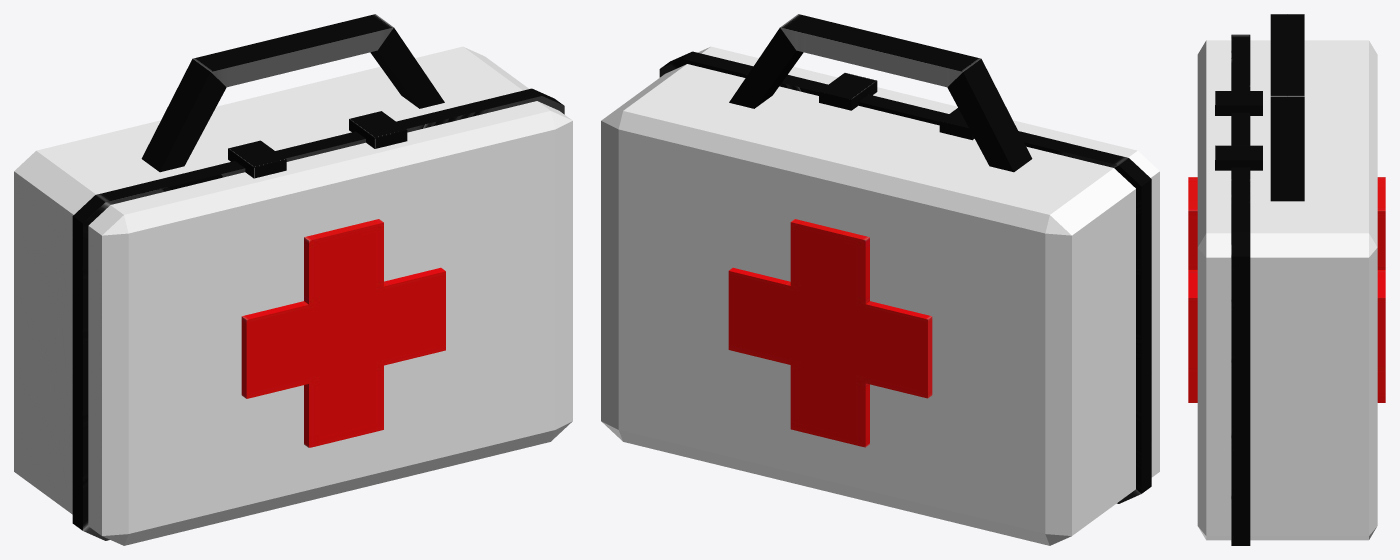
File: First Aid Kit1.fbx
The picture shows the model from 3 angles, left to right: view 1: azimuth 30°, elevation 25°; view 2: azimuth 150°, elevation 25°; view 3: azimuth 270°, elevation 25°; orthographic projection. The views are drawn at different scales.
Parts seen in each view (by area): view 1: Cube; view 2: Cube; view 3: Cube.
Boxes of the visible parts, left/top/right/bottom form: Cube: left=14, top=14, right=572, bottom=545; Cube: left=601, top=14, right=1159, bottom=545; Cube: left=1188, top=14, right=1385, bottom=545.
Bounding box in the file's own units: 311 × 260 × 119.
1 material, 1 textured.
